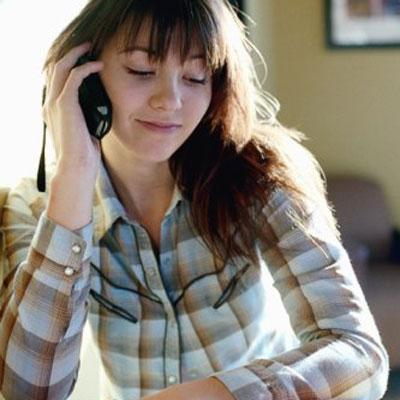person: (7, 1, 390, 398)
